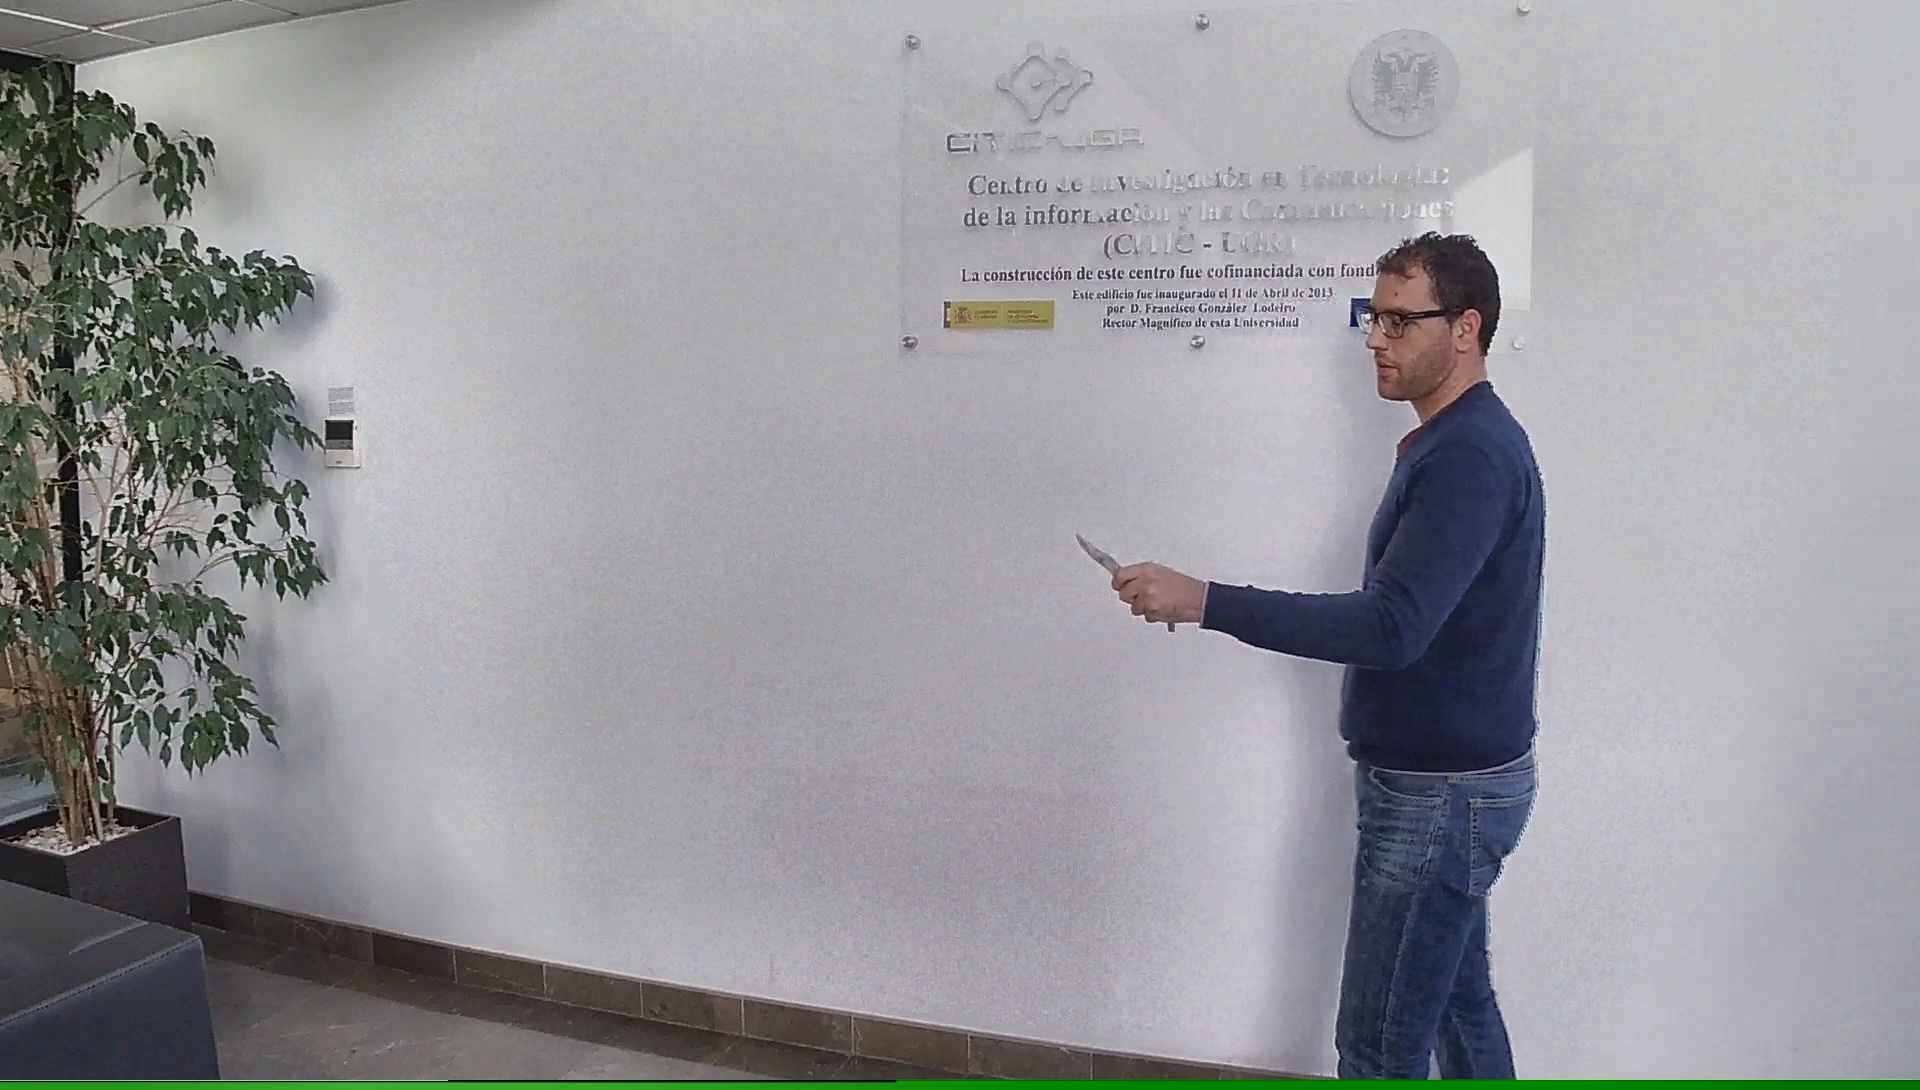knife: (1067, 522, 1182, 635)
